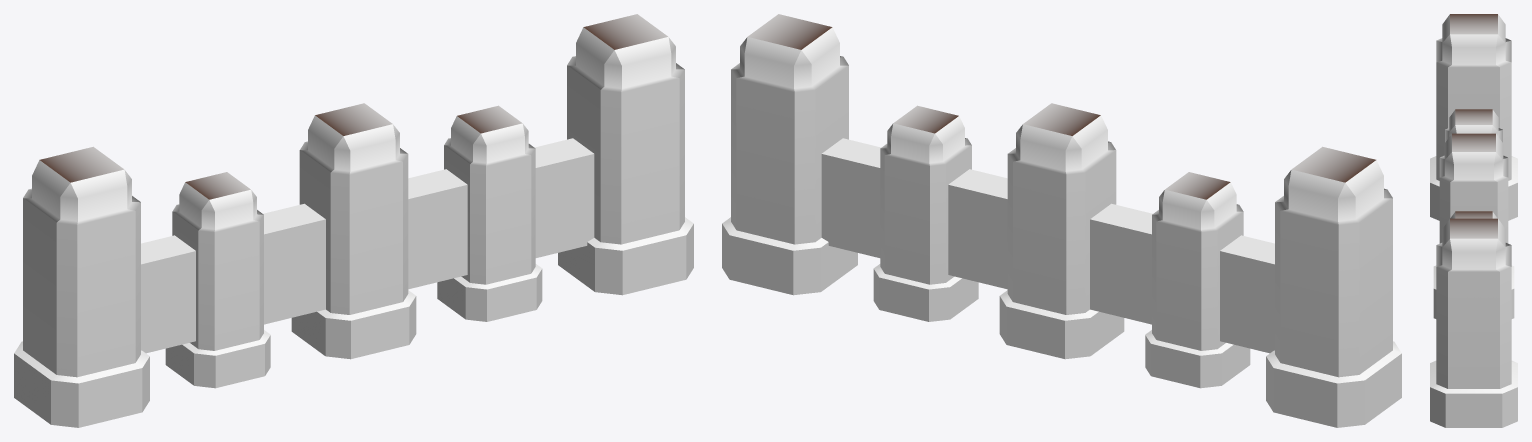
The model's file is Wall_Lv10_1.fbx.
The picture shows the model from 3 angles, left to right: view 1: azimuth 30°, elevation 25°; view 2: azimuth 150°, elevation 25°; view 3: azimuth 270°, elevation 25°; orthographic projection. The views are drawn at different scales.
Visible parts, largest first — view 1: Wall; view 2: Wall; view 3: Wall.
Part boxes in pixels (x1,y1,x2,y2): Wall: (14,14,693,427); Wall: (722,14,1401,427); Wall: (1430,14,1517,427).
Size of the model in its own units: 1.57 by 0.5491 by 0.2423.
